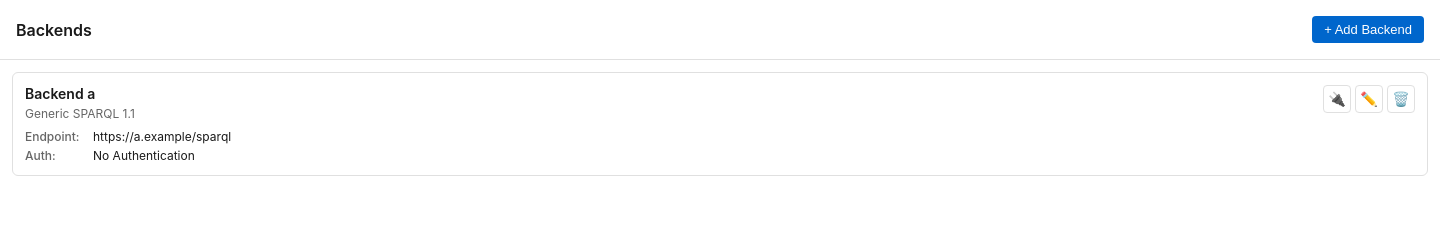
Test: BackendList › shows failed and thrown connection tests
This screenshot has width=1440, height=230.
Click the button titled "Test connection".
click(1337, 99)  # box [1323,85,1351,113]
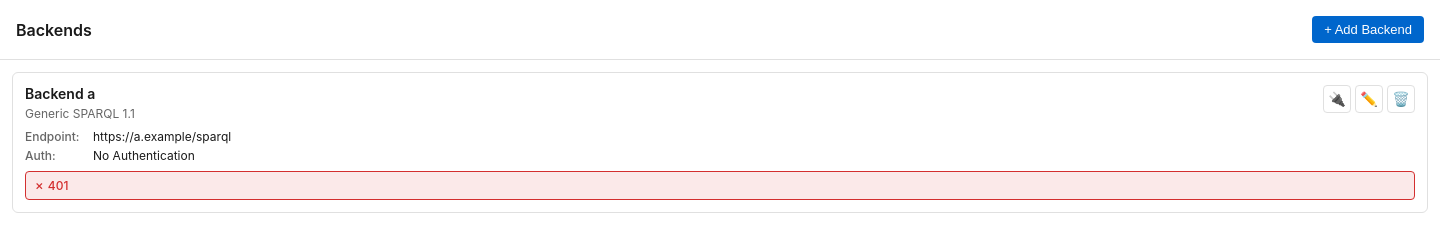
Result: the text with class "test-result" reads "✗ 401" at [34,178,68,193]
Click the button titled "Test connection".
click(1337, 99)  # box [1323,85,1351,113]
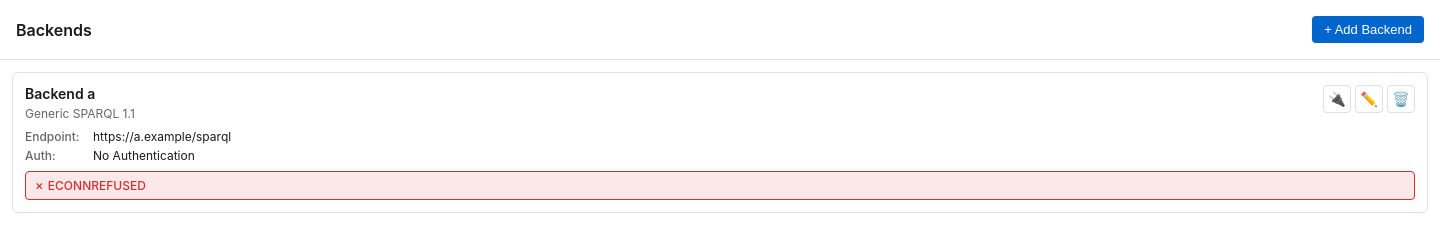
Result: the text with class "test-result" reads "✗ ECONNREFUSED" at [34,178,146,193]
